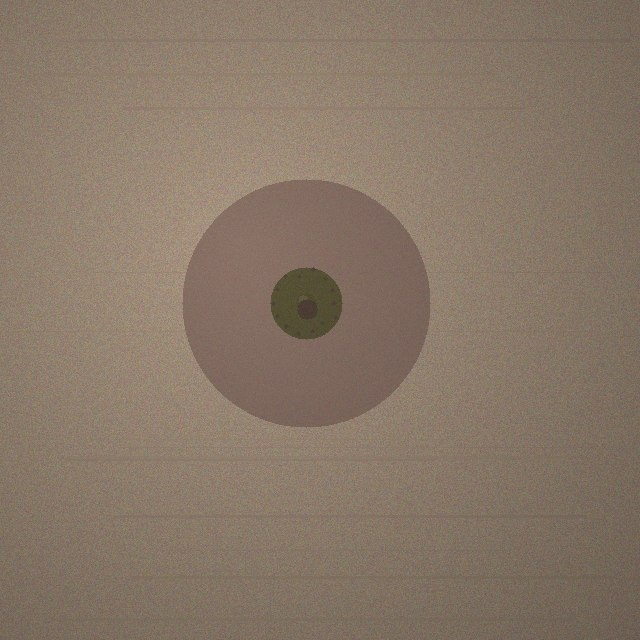cold_weld: (182, 179, 430, 427)
